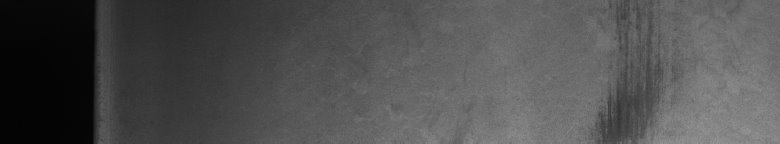ka: (592, 4, 664, 136)
